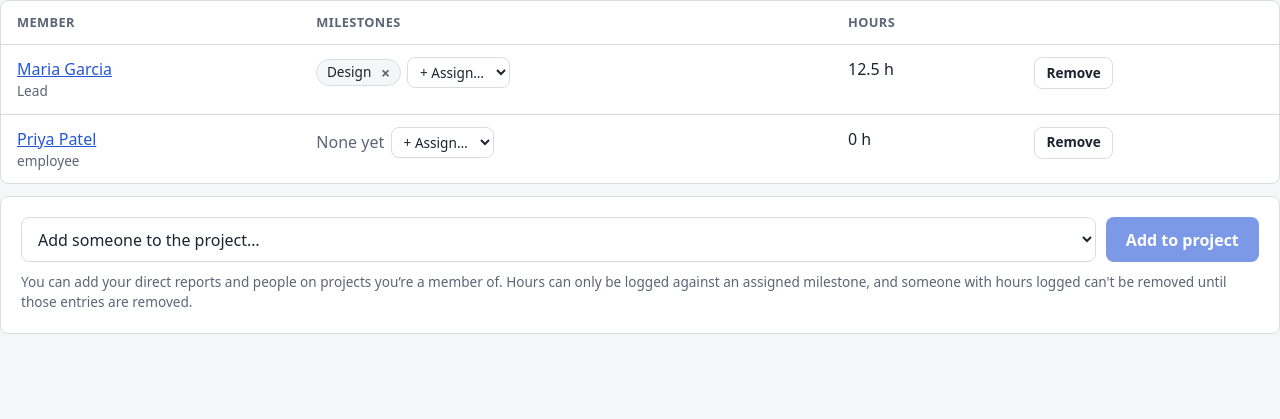
Test: TeamManager add member › shows the employeeId field error when adding fails
The image size is (1280, 419).
Select "Sam Lee · Dev" in the dropdown named "Add someone to the project" at (559, 240), box x1=21 y1=217 x2=1096 y2=262
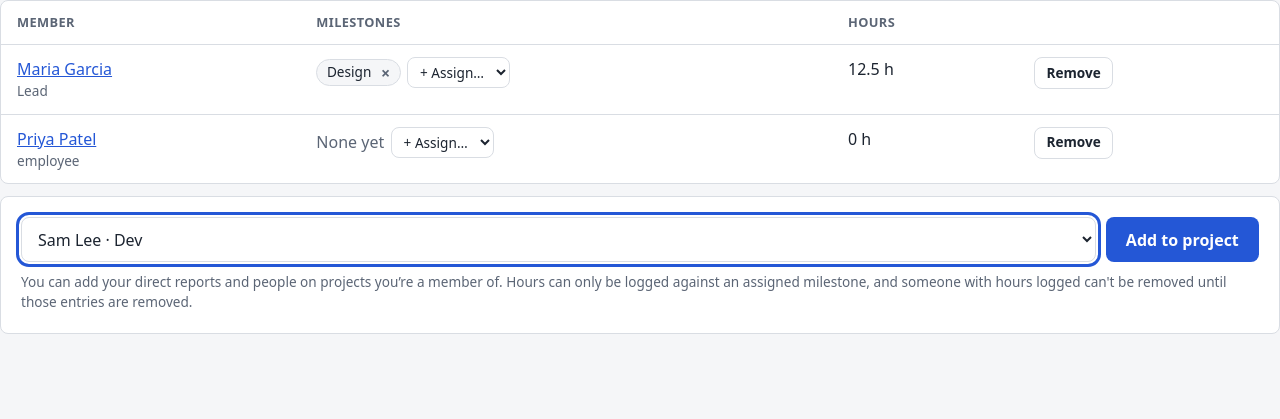
Click the button "Add to project" at (1182, 240), box x1=1106 y1=217 x2=1259 y2=262
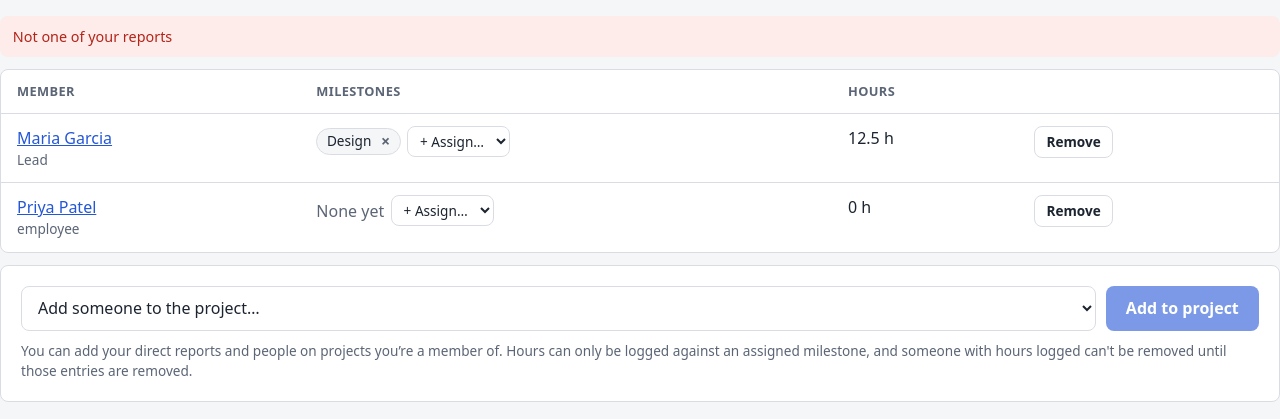
Result: the message reads "Not one of your reports" at x1=13 y1=27 x2=172 y2=46
